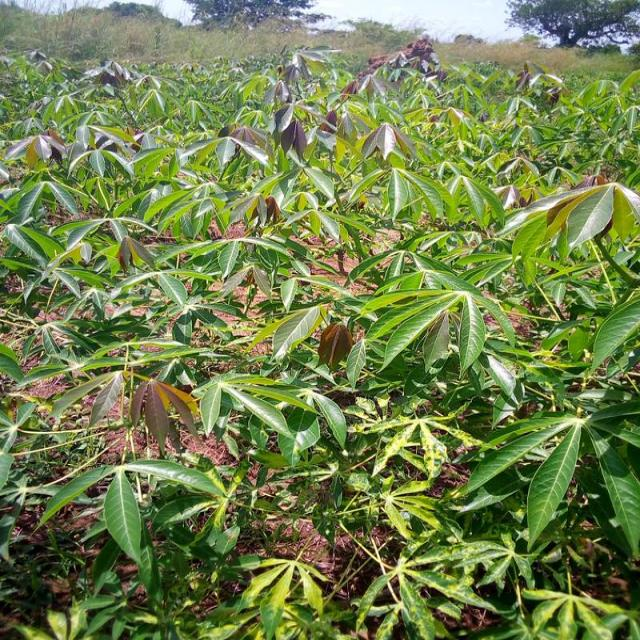Mosaico: (360, 543, 480, 630), (371, 412, 486, 472), (186, 449, 261, 540), (516, 582, 632, 640), (360, 469, 440, 529), (262, 559, 349, 612)
